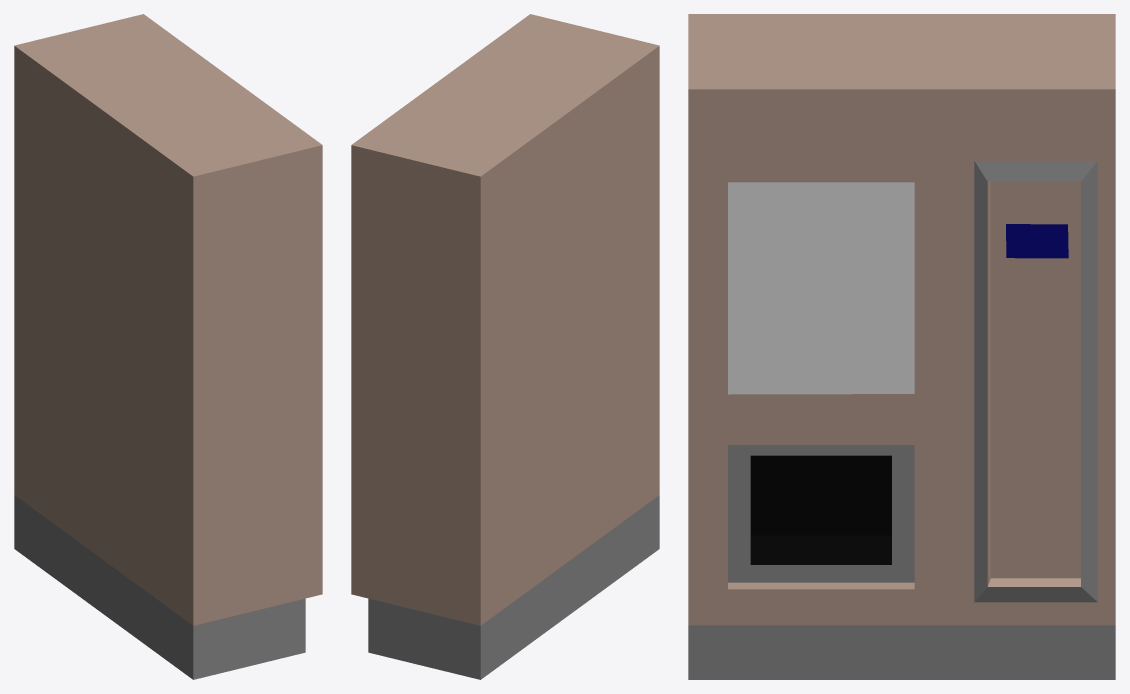
Rendered from Cafetera2.fbx.
3 views of the same model, side by side, from view 1: azimuth 30°, elevation 25°; view 2: azimuth 150°, elevation 25°; view 3: azimuth 270°, elevation 25° (orthographic). The views are drawn at different scales.
Parts seen in each view (by area): view 1: Cube; view 2: Cube; view 3: Cube.
Boxes of the visible parts, x1,y1,x2,y2 form: Cube: (14,14,322,679); Cube: (351,14,659,679); Cube: (688,14,1115,679).
Bounding box in the file's own units: 236 × 855 × 552.
